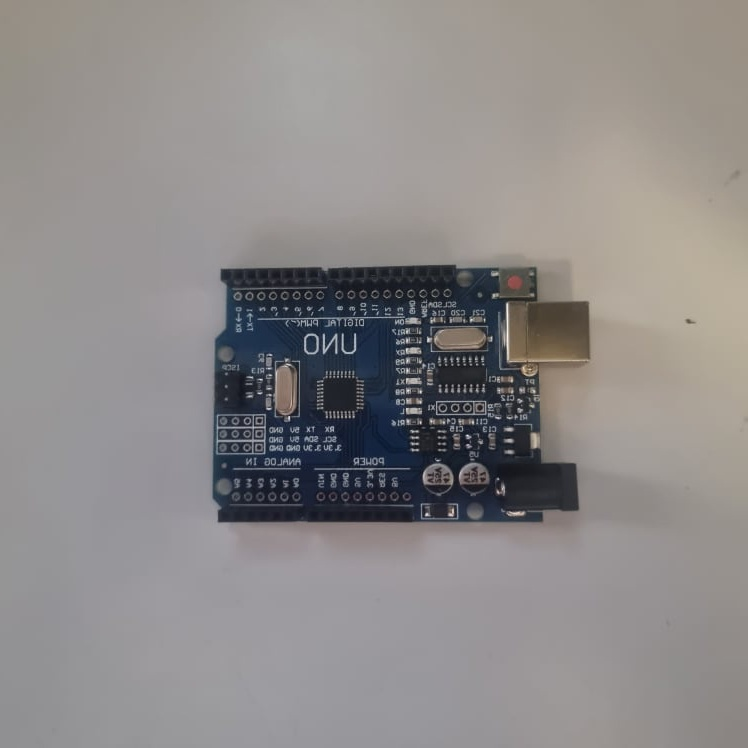UNO R3: (208, 262, 590, 527)
